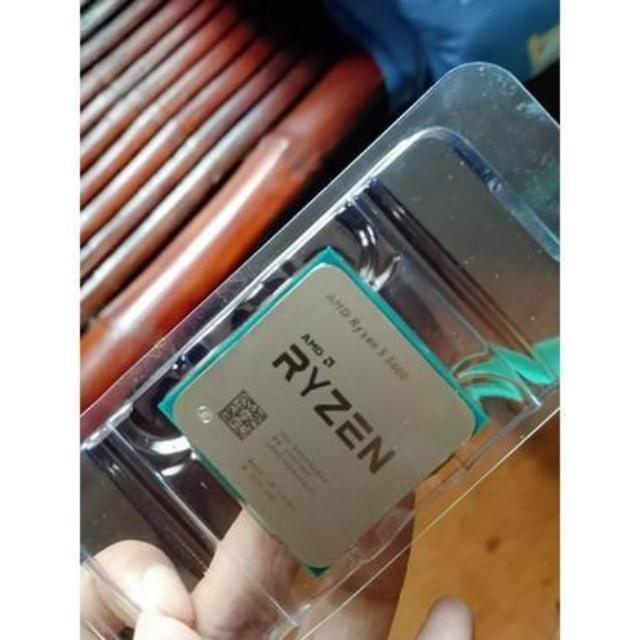CPU: (158, 254, 490, 583)
